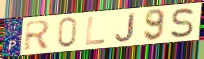0: (56, 16, 78, 50)
9: (142, 8, 166, 43)
J: (115, 12, 136, 42)
L: (84, 16, 106, 46)
R: (23, 19, 52, 53)
S: (169, 7, 197, 39)
